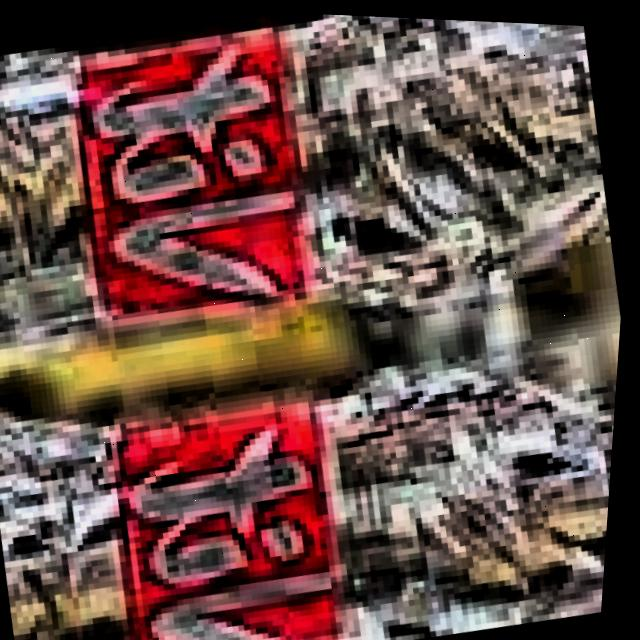plastic: (0, 0, 634, 403), (0, 265, 626, 640)
